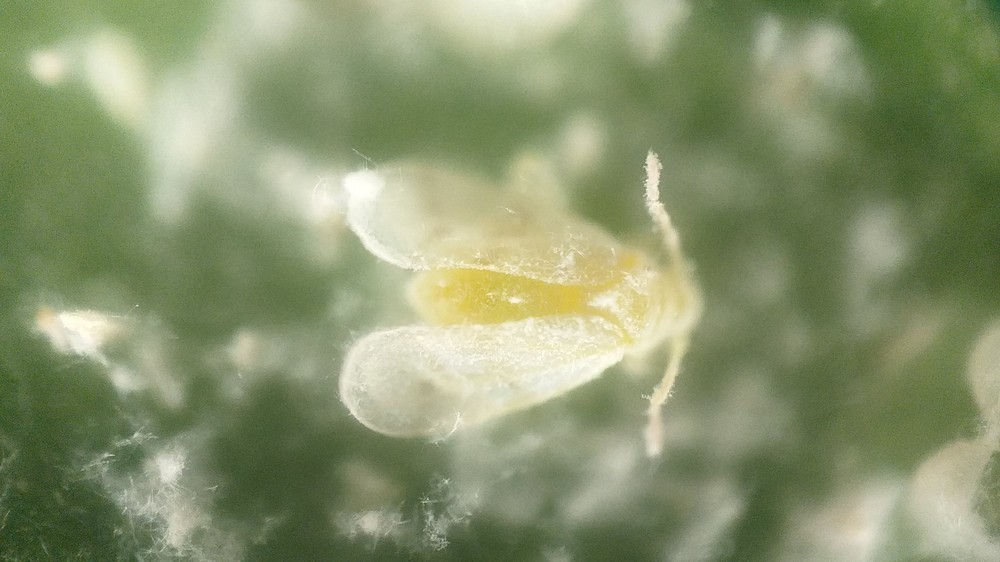Mosca Blanca: (326, 135, 718, 471)
